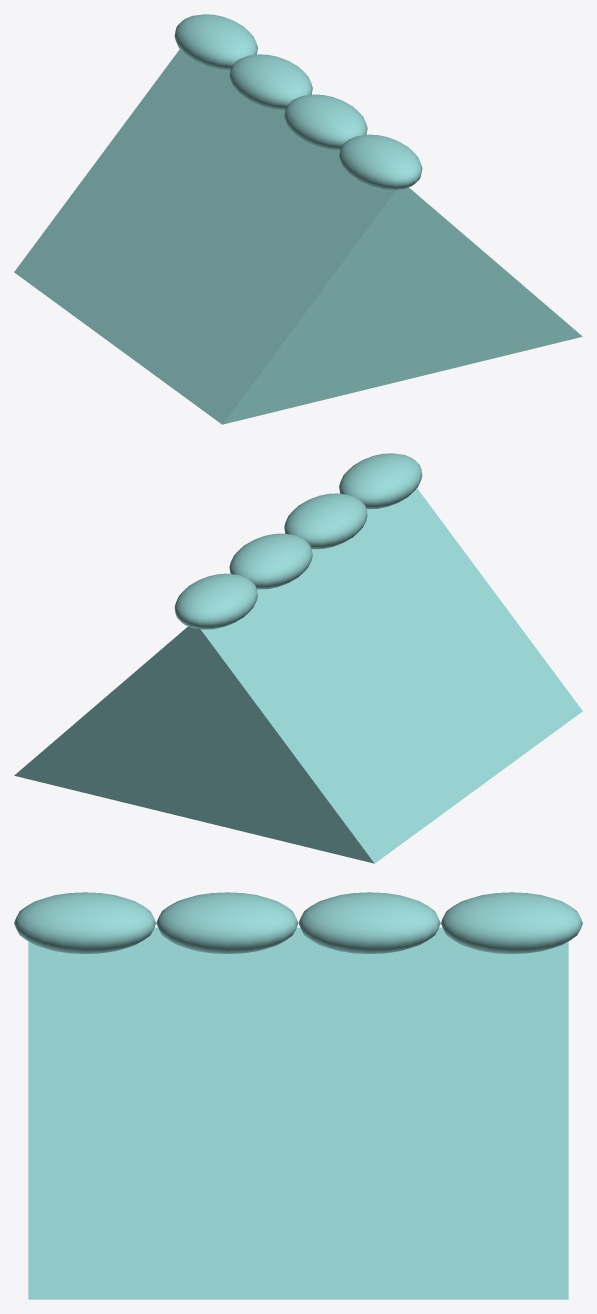
Rendered from roof-teal.glb.
3 views of the same model, one above another, from view 1: azimuth 30°, elevation 25°; view 2: azimuth 150°, elevation 25°; view 3: azimuth 270°, elevation 25° (orthographic). The views are drawn at different scales.
Visible parts, largest first — view 1: gable, ridge_tile (×4); view 2: gable, ridge_tile (×4); view 3: gable, ridge_tile (×4).
Part boxes in pixels (x1=…): gable: x1=14, y1=49, x2=582, y2=424; ridge_tile (×4): x1=174, y1=14, x2=422, y2=190; gable: x1=14, y1=488, x2=582, y2=863; ridge_tile (×4): x1=174, y1=453, x2=422, y2=629; gable: x1=28, y1=927, x2=568, y2=1299; ridge_tile (×4): x1=14, y1=892, x2=582, y2=953.
Size of the model in its own units: 1.14 by 0.665 by 1.2.
